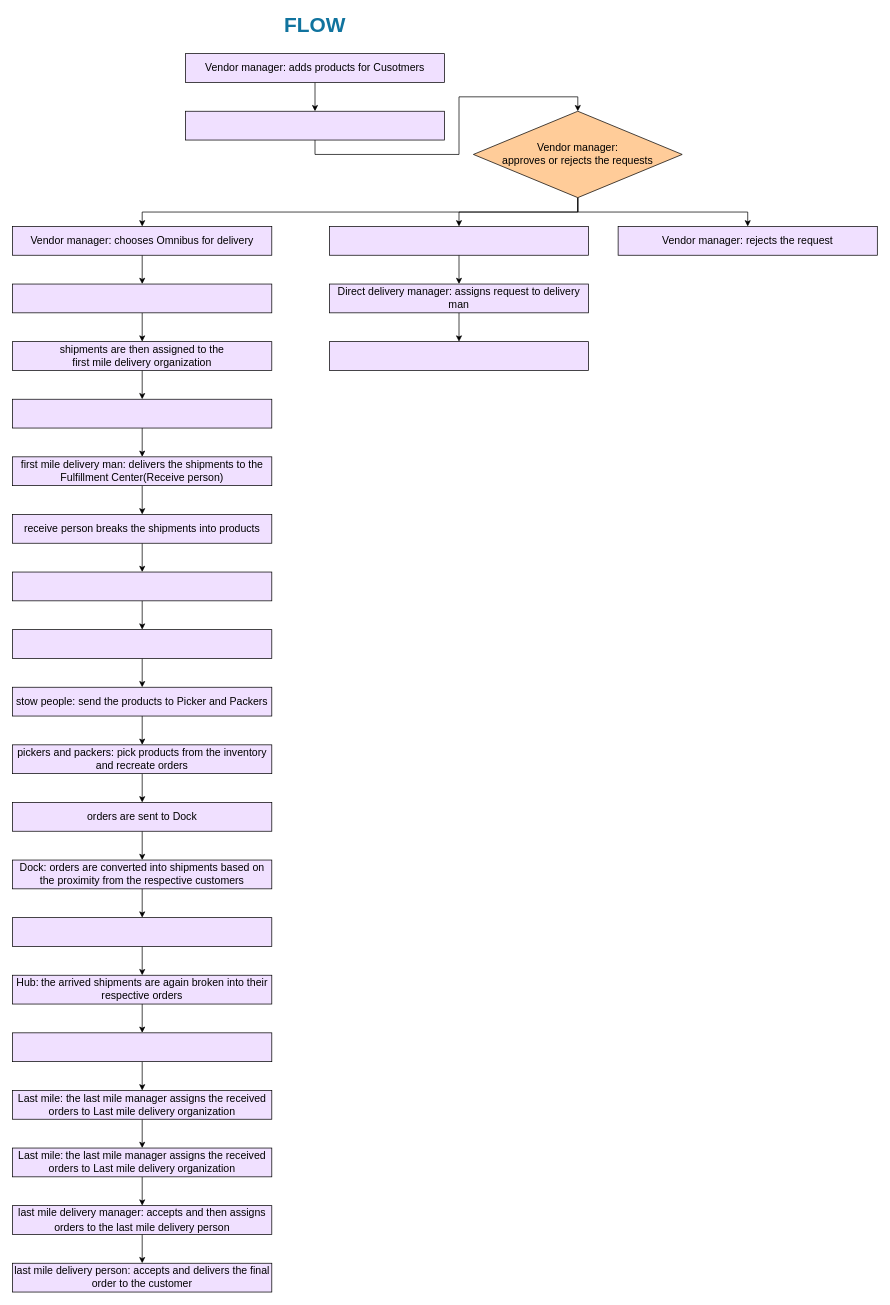
The diagram is 890 pixels wide and 1305 high, and some of its shapes have lost their labels. The shapes that lost their labels are listed below. From the top down, each one's centre as x and y in pixels, then its label:
point 315,125: Customer : orders the products
point 459,240: Vendor manager: chooses direct delivery
point 142,298: the orders are converted into shipments
point 459,355: Direct delivery man: delivers the order to the customer
point 142,413: First mile delivery manager: accepts and assigns a first mile delivery man
point 142,586: receive person: sends these product shipments to Stow
point 142,643: stow person: stores the shipment products in the Fulfillment Center inventory
point 142,931: the shipments are then sent to the respective hubs
point 142,1047: Hub: orders are then assigned to Lastmile Stations
